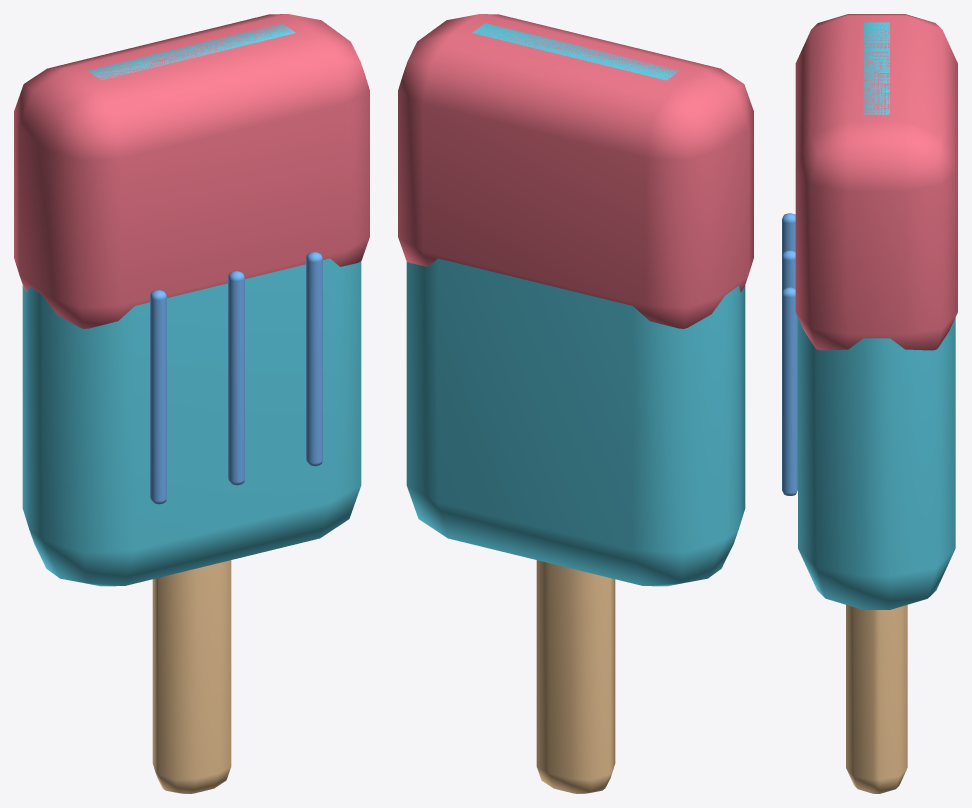
Rendered from popsicle.glb.
The picture shows the model from 3 angles, left to right: view 1: azimuth 30°, elevation 25°; view 2: azimuth 150°, elevation 25°; view 3: azimuth 270°, elevation 25°; orthographic projection. The views are drawn at different scales.
Visible parts, largest first — view 1: popsicle; view 2: popsicle; view 3: popsicle.
Boxes of the visible parts, x1,y1,x2,y2 form: popsicle: [14, 14, 369, 793]; popsicle: [398, 14, 753, 793]; popsicle: [782, 14, 957, 793].
Bounding box in the file's own units: 0.4475 × 1 × 0.2215.
Materials: 1 (1 with a texture image).
